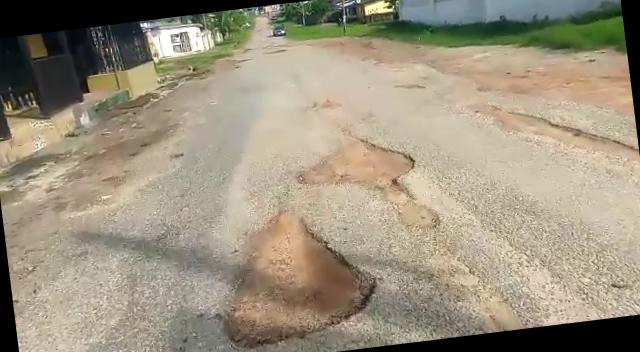pothole: (192, 197, 393, 352), (289, 128, 429, 200), (397, 78, 431, 92)
